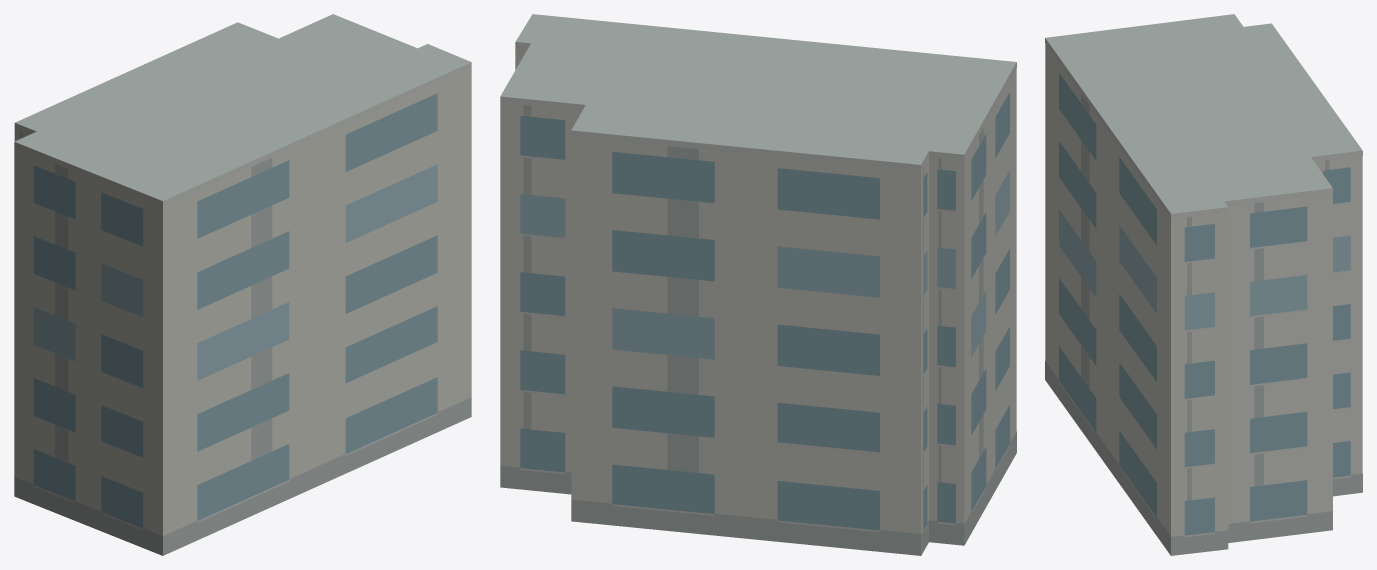
Rendered from survey-upis-32766595.glb.
3 views of the same model, side by side, from view 1: azimuth 30°, elevation 25°; view 2: azimuth 150°, elevation 25°; view 3: azimuth 270°, elevation 25° (orthographic). The views are drawn at different scales.
Visible parts, largest first — view 1: survey-upis-32766595.tmp; view 2: survey-upis-32766595.tmp; view 3: survey-upis-32766595.tmp.
Boxes of the visible parts, x1,y1,x2,y2 form: survey-upis-32766595.tmp: (14,14,471,555); survey-upis-32766595.tmp: (500,14,1016,555); survey-upis-32766595.tmp: (1045,14,1362,555).
Size of the model in its own units: 19.2 by 15.32 by 12.9.
